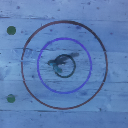Axe Tip: (58, 61, 65, 64)
